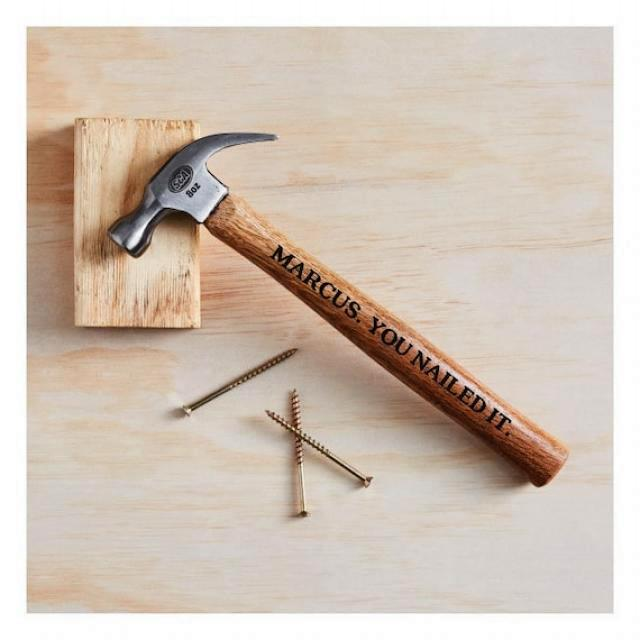hammer: (105, 124, 580, 497)
